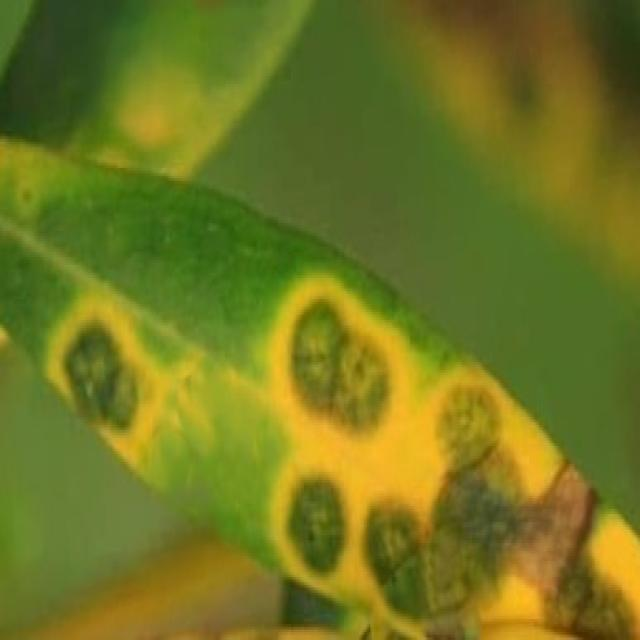Peacock Eye: (0, 136, 638, 637)
